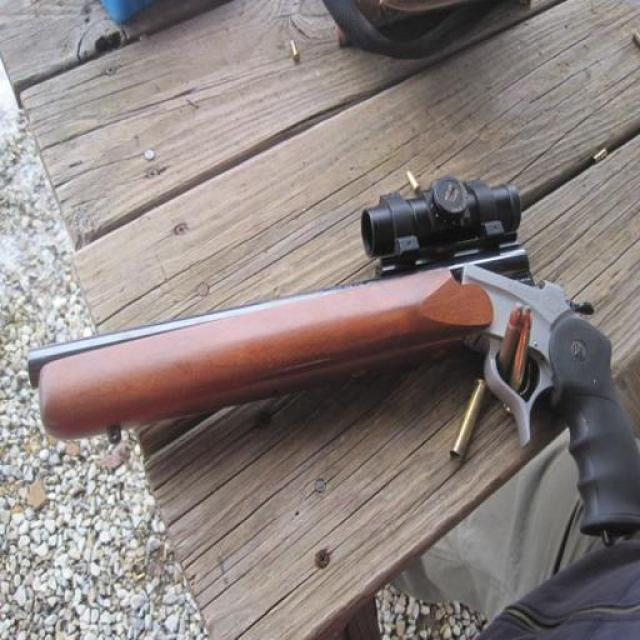pistol: (28, 192, 639, 545)
